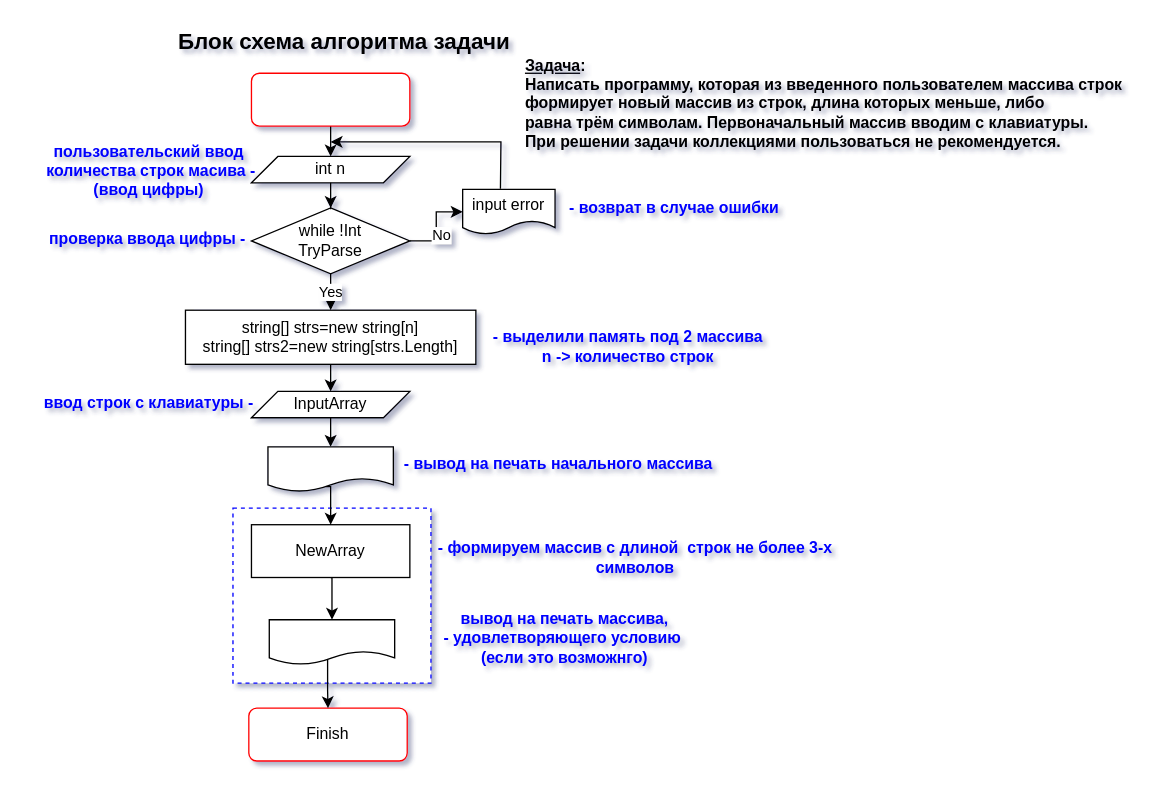
Some shapes in this 1172 by 792 pixel diagram are drawn without their labels. Each missing label, with the box of its shape:
PrintInputArray: (267, 446, 393, 492)
PrintNewArray: (268, 618, 395, 665)
Start: (250, 72, 410, 126)
